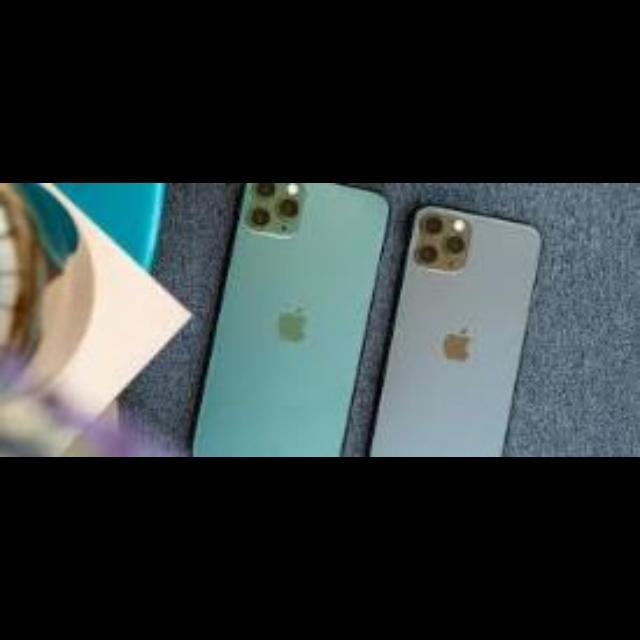Phone: (191, 183, 391, 457), (370, 204, 542, 456)
